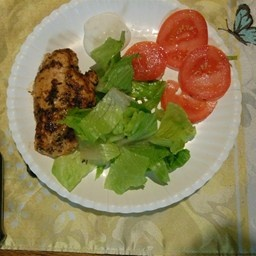background: (10, 3, 92, 78)
